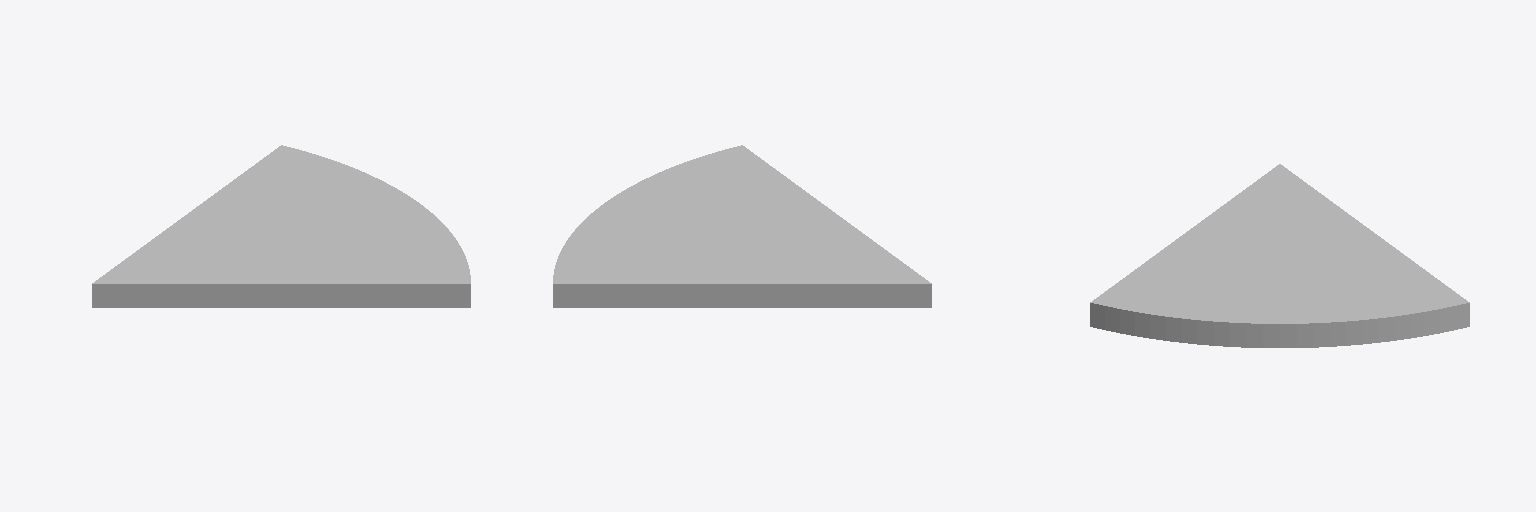
The picture shows the model from 3 angles: view 1: azimuth 30°, elevation 25°; view 2: azimuth 150°, elevation 25°; view 3: azimuth 270°, elevation 25°; orthographic projection.
Parts seen in each view (by area): view 1: segment4-4_CUCurve.059; view 2: segment4-4_CUCurve.059; view 3: segment4-4_CUCurve.059.
Part boxes in pixels (x1,y1,x2,y2): segment4-4_CUCurve.059: (92, 145, 470, 307); segment4-4_CUCurve.059: (553, 145, 931, 307); segment4-4_CUCurve.059: (1090, 164, 1469, 347).
Size of the model in its own units: 0.7055 by 0.05 by 0.7054.